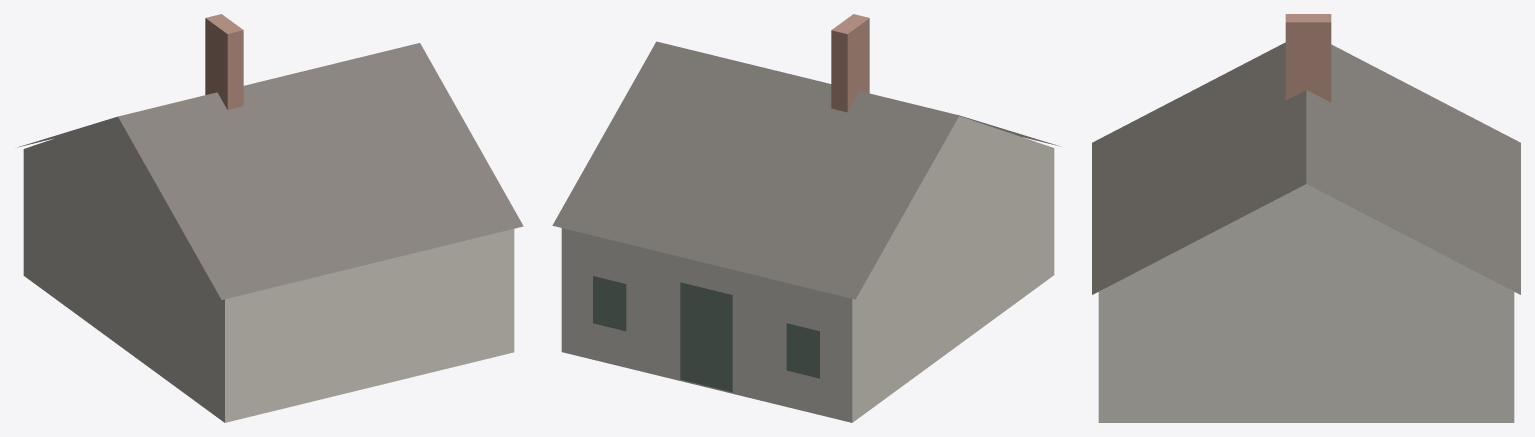
The model's file is recon_1835_blk_south_water_dearborn_d4_02__inferred_1835.glb.
3 views of the same model, side by side, from view 1: azimuth 30°, elevation 25°; view 2: azimuth 150°, elevation 25°; view 3: azimuth 270°, elevation 25° (orthographic). The views are drawn at different scales.
Visible parts, largest first — view 1: recon_1835_blk_south_water_dearborn_d4_02__inferred_1835; view 2: recon_1835_blk_south_water_dearborn_d4_02__inferred_1835; view 3: recon_1835_blk_south_water_dearborn_d4_02__inferred_1835.
Part boxes in pixels (x1=…): recon_1835_blk_south_water_dearborn_d4_02__inferred_1835: x1=18, y1=14, x2=523, y2=422; recon_1835_blk_south_water_dearborn_d4_02__inferred_1835: x1=552, y1=14, x2=1060, y2=422; recon_1835_blk_south_water_dearborn_d4_02__inferred_1835: x1=1092, y1=14, x2=1520, y2=422.
Size of the model in its own units: 6.7 by 6.35 by 7.97.
